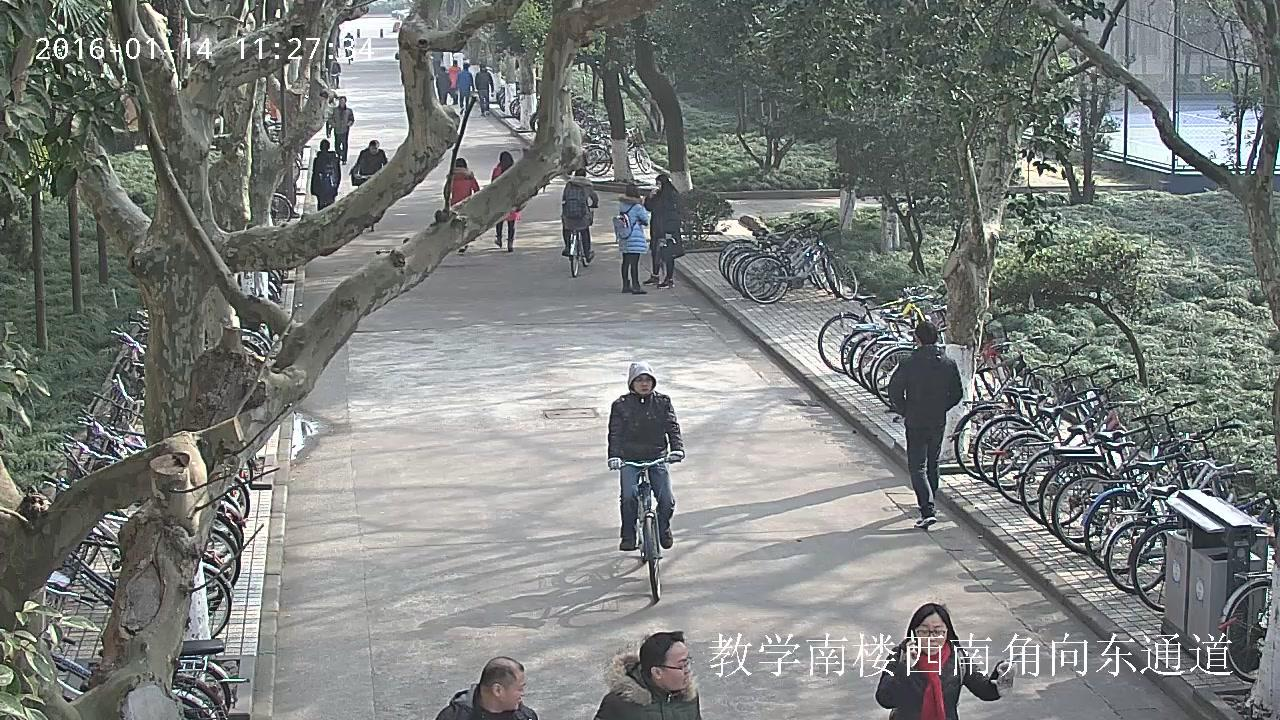person: (607, 361, 685, 601), (876, 604, 1022, 720), (888, 320, 962, 528), (607, 361, 685, 549), (591, 630, 700, 720), (434, 655, 537, 720), (643, 173, 685, 289), (612, 183, 650, 295), (561, 169, 599, 277), (348, 139, 388, 232), (561, 168, 599, 261), (443, 158, 480, 252), (490, 150, 520, 251), (310, 138, 341, 212), (326, 95, 354, 165), (351, 138, 388, 187), (475, 63, 494, 117), (457, 63, 472, 114), (325, 90, 338, 138), (447, 60, 460, 104), (436, 65, 449, 105), (343, 32, 354, 64), (330, 59, 341, 89), (343, 32, 354, 61), (431, 50, 443, 75), (331, 60, 341, 87)
